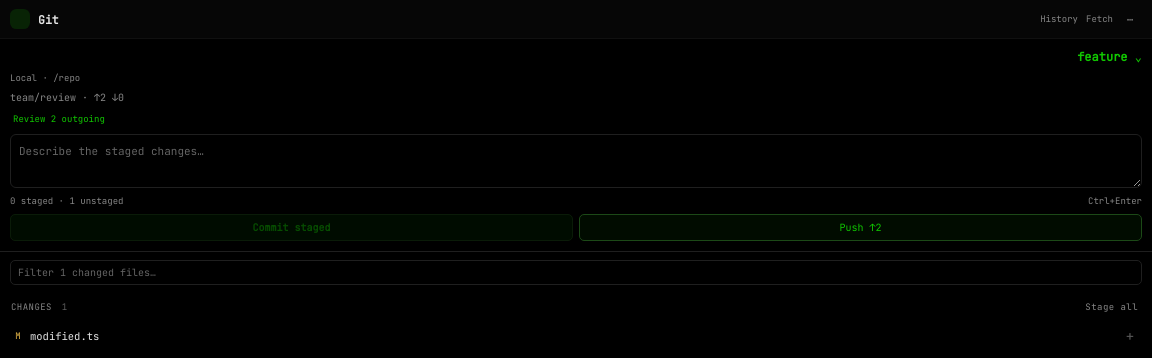
gates push/pull on actual upstream and a clean working tree, not a fabricated origin
Expected: the button "Push ↑2" is enabled, [579, 214, 1142, 241]
Click the heading "⋯" at {"x": 1130, "y": 19}, box [1127, 12, 1133, 26]
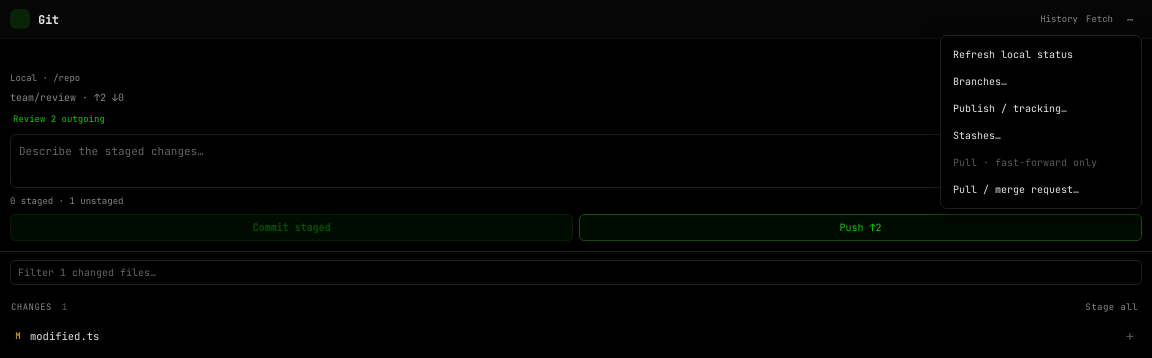
Click the button "Refresh local status" at {"x": 1041, "y": 54}, box [946, 41, 1136, 68]
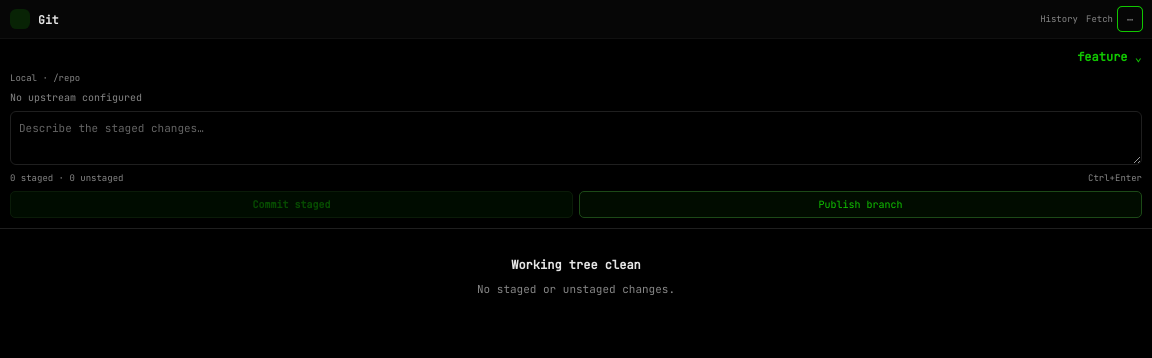
Expected: the button "Publish branch" is enabled, [579, 191, 1142, 218]
Now the text "No upstream configured" is shown, box [10, 91, 142, 104]
